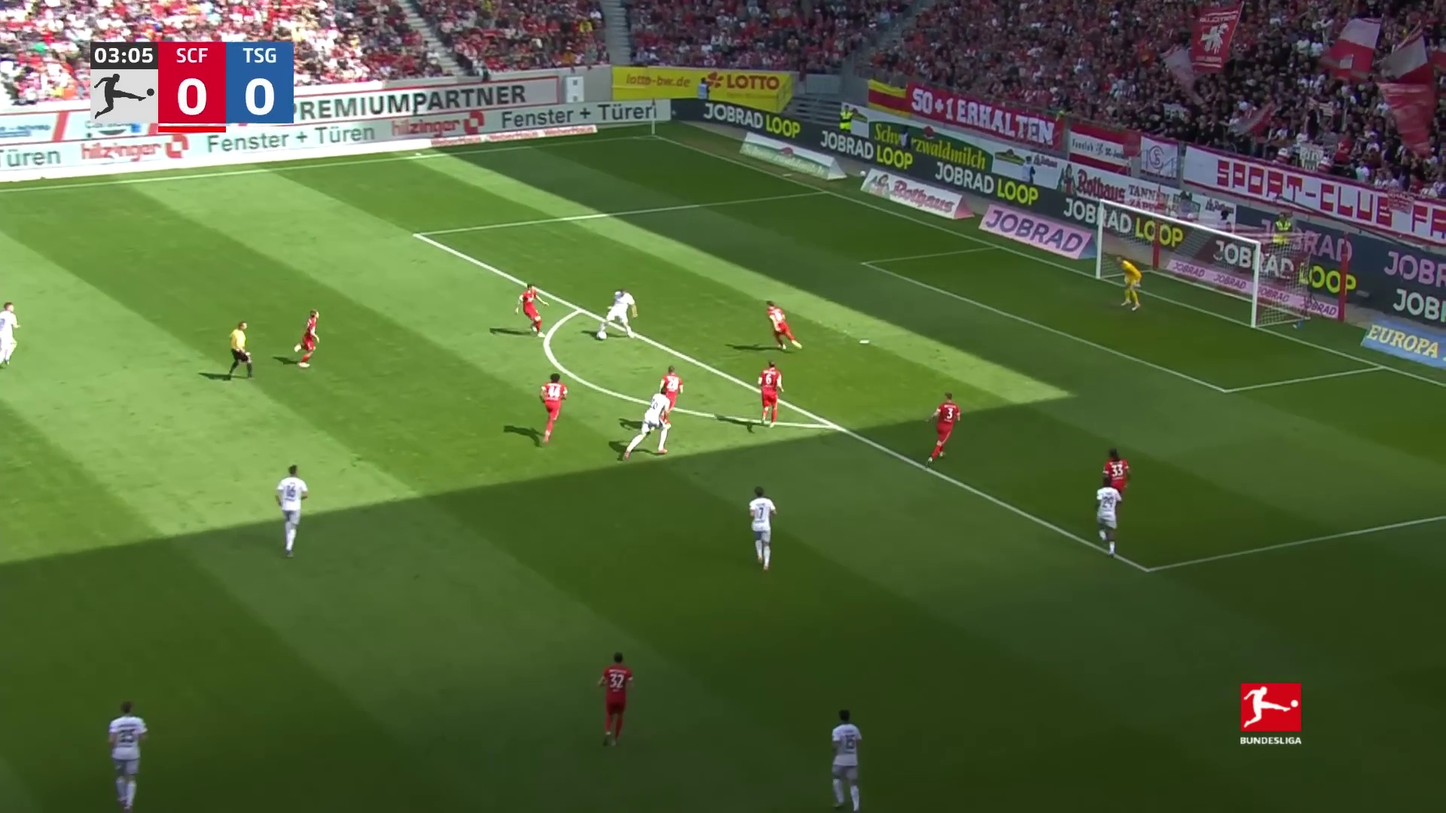ball: (595, 329, 609, 341)
player: (103, 699, 152, 812), (591, 650, 638, 750), (824, 708, 869, 812), (621, 386, 673, 461), (272, 464, 312, 558), (744, 485, 781, 572), (922, 391, 964, 465), (1091, 476, 1124, 557), (535, 372, 570, 446), (752, 360, 787, 430), (1099, 447, 1133, 518), (762, 300, 804, 353), (512, 282, 550, 339), (290, 309, 324, 370), (599, 287, 637, 339), (1115, 255, 1147, 313), (0, 300, 23, 371), (658, 365, 686, 419)
referee: (224, 320, 258, 383)
